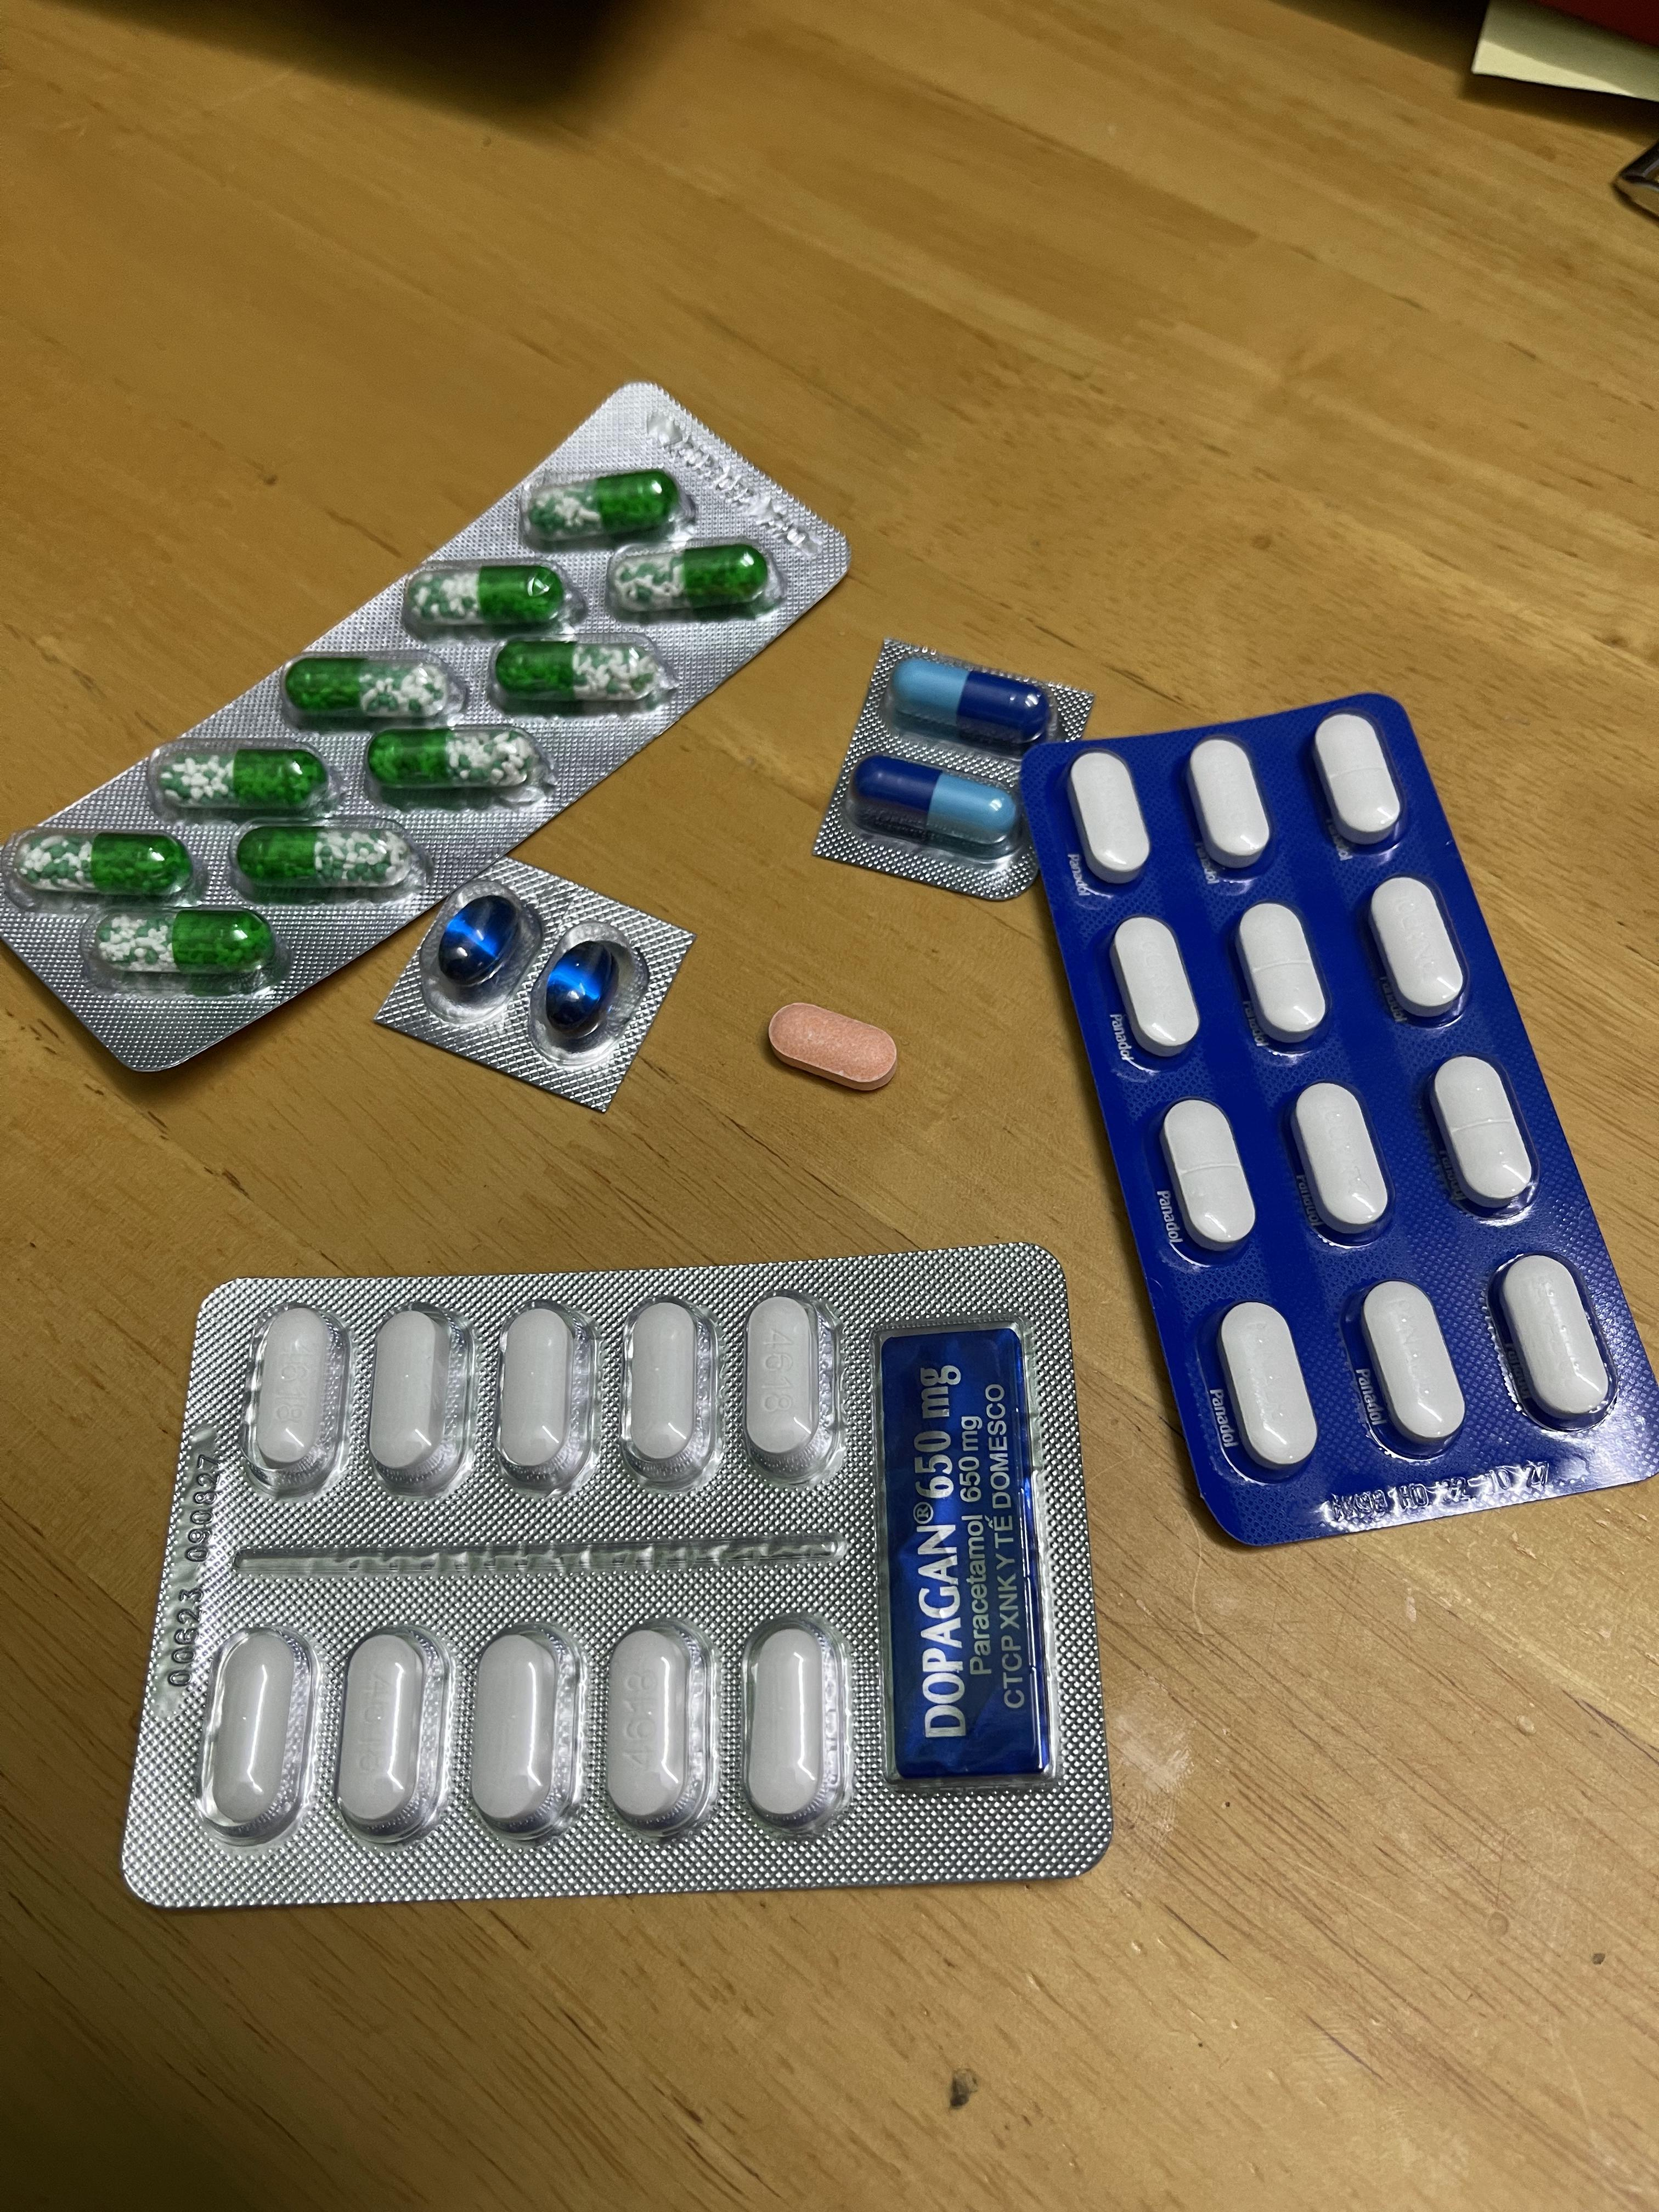Lincomyxin_500mg: (439, 894, 519, 989), (542, 941, 619, 1031)
Loratadine_10mg: (765, 1003, 899, 1090)
Paracetamol_350mg: (1493, 1251, 1614, 1428), (1356, 1277, 1469, 1449), (1215, 1299, 1319, 1474), (1427, 1054, 1537, 1214), (1288, 1080, 1391, 1238), (1161, 1099, 1256, 1251), (1368, 876, 1467, 1021), (1234, 900, 1328, 1043), (1110, 914, 1199, 1055), (1310, 712, 1403, 845), (1185, 735, 1272, 867), (1066, 749, 1150, 883)
Paracetamol_500mg: (195, 1622, 310, 1841), (462, 1623, 577, 1838), (328, 1625, 441, 1841), (598, 1620, 709, 1832), (737, 1618, 847, 1829), (362, 1303, 469, 1493), (242, 1305, 349, 1493), (619, 1296, 714, 1480), (493, 1305, 591, 1486), (741, 1294, 833, 1475)
Paracetamol_650mg: (96, 911, 267, 975), (237, 827, 403, 892), (610, 547, 767, 615), (528, 470, 676, 542), (19, 833, 186, 895), (495, 643, 657, 707), (369, 730, 533, 792), (288, 658, 450, 721), (411, 566, 565, 629), (160, 751, 321, 808)
pill: (854, 758, 1016, 845), (894, 655, 1047, 740)
